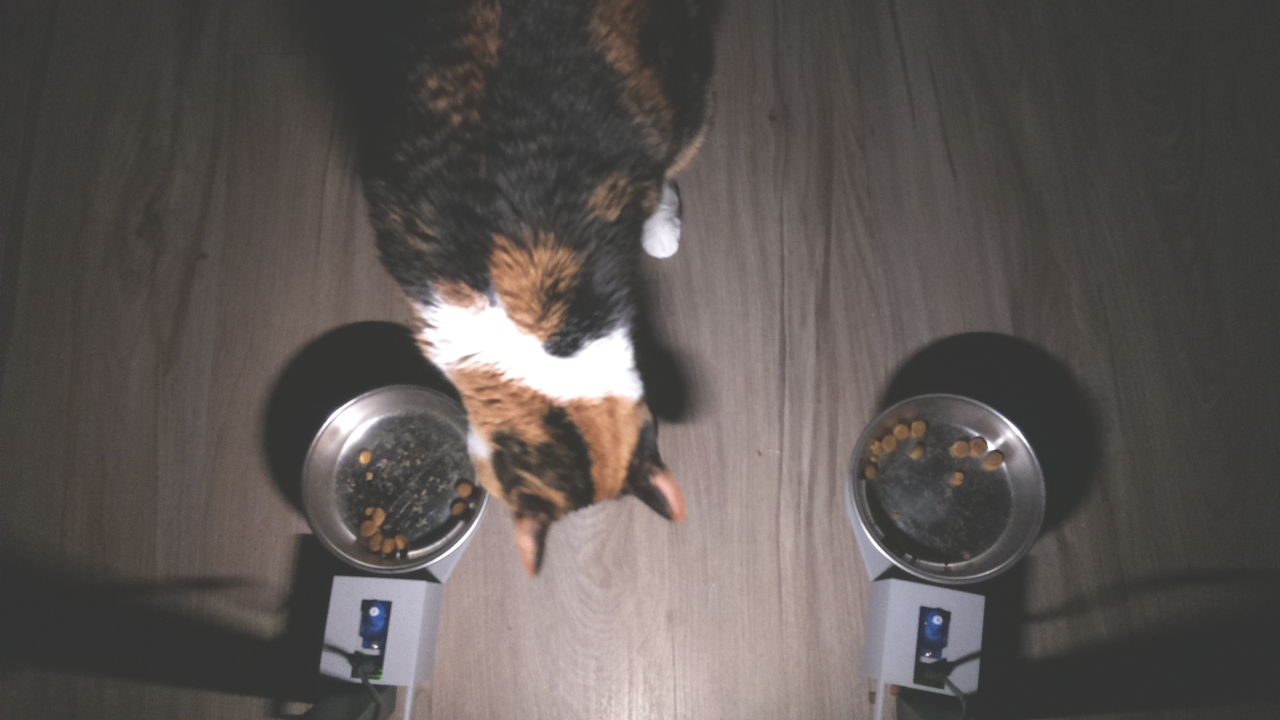bella: (461, 265, 691, 580)
open_bowl: (843, 384, 1052, 591), (291, 376, 484, 564)
